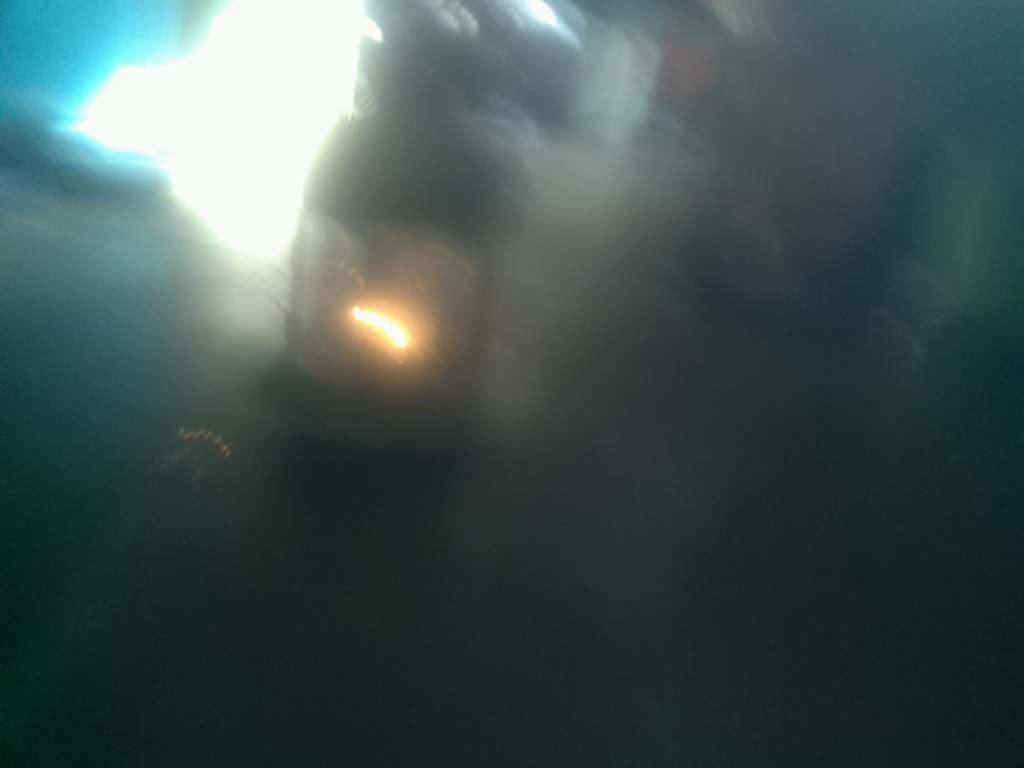fire: (340, 286, 436, 382)
